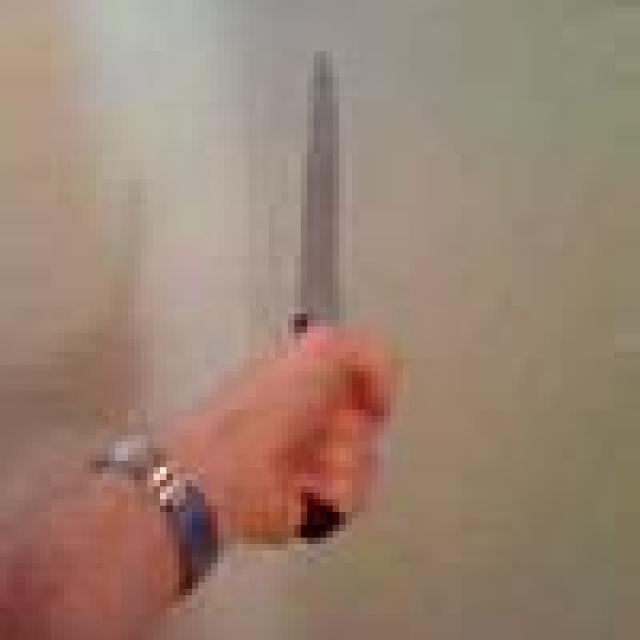knife: (297, 45, 345, 335)
